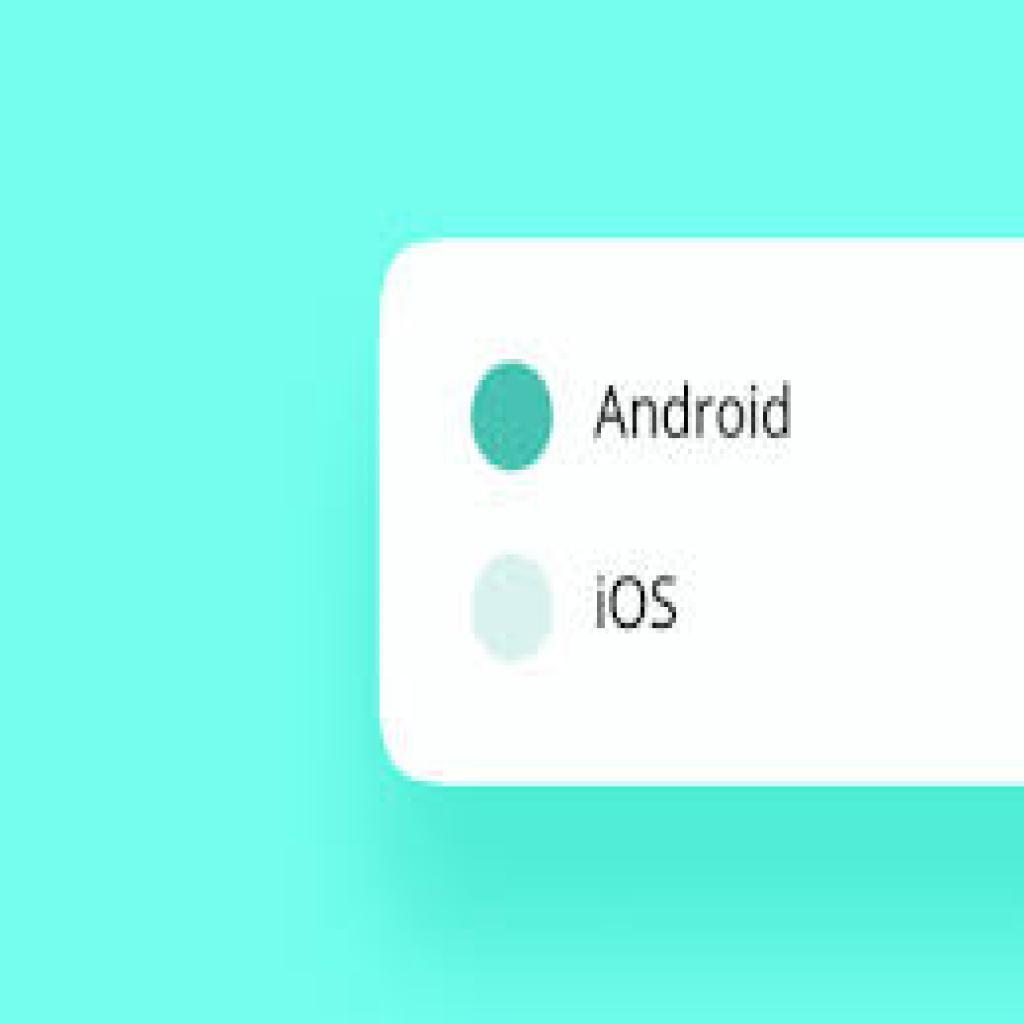radio: (471, 355, 555, 486), (470, 551, 556, 674)
